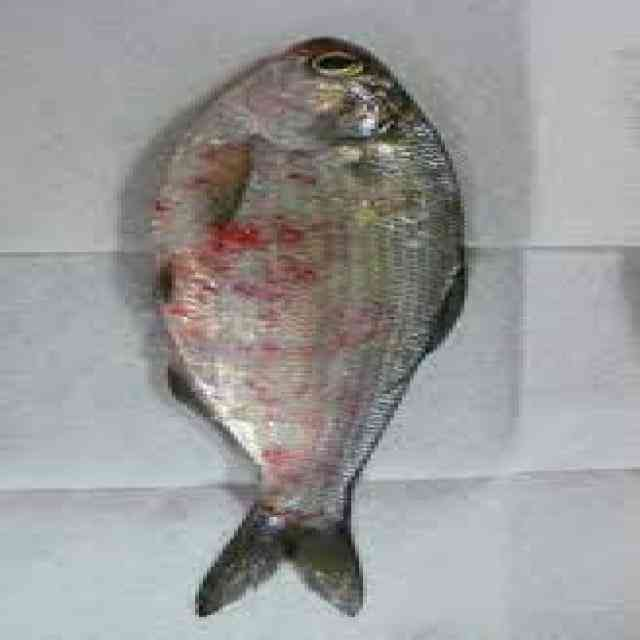EUS Disease: (153, 32, 464, 626), (179, 150, 356, 488)
